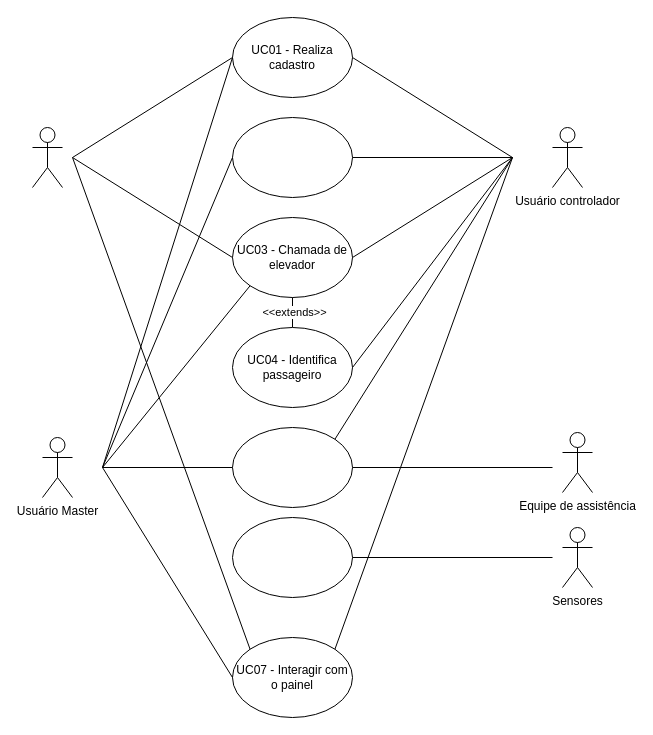
The diagram is 653 pixels wide and 735 high, and some of its shapes have lost their labels. The centre of each missing label's shape, as x and y in pixels:
Passageiro VIP: point (47, 157)
UC02 - Gerencia usuarios: point (292, 157)
UC05 - Pedir assistência: point (292, 467)
UC06 - Ativa modo de emergência: point (292, 557)
